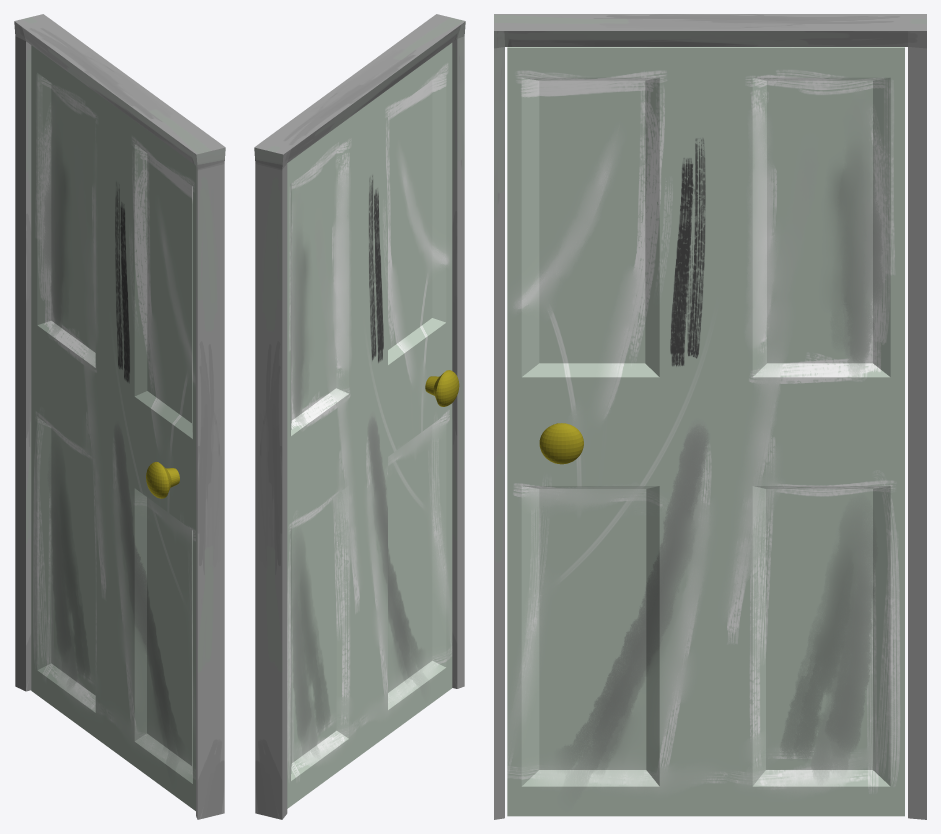
Rendered from SM_Door.fbx.
3 views of the same model, side by side, from view 1: azimuth 30°, elevation 25°; view 2: azimuth 150°, elevation 25°; view 3: azimuth 270°, elevation 25° (orthographic). The views are drawn at different scales.
Parts seen in each view (by area): view 1: Cube, Cube.002; view 2: Cube, Cube.002; view 3: Cube, Cube.002.
Part boxes in pixels (x1,y1,x2,y2): Cube: (31,45,195,810); Cube.002: (14,14,225,819); Cube: (287,43,459,808); Cube.002: (254,14,465,819); Cube: (507,47,904,816); Cube.002: (494,14,926,819).
Size of the model in its own units: 17.07 by 169 by 84.06.
Materials: 3 (2 with a texture image).
